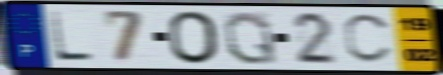2: (290, 11, 339, 67)
7: (101, 9, 151, 65)
C: (341, 12, 395, 66)
L: (47, 9, 96, 63)
O: (165, 9, 223, 66)
Q: (221, 9, 280, 66)
